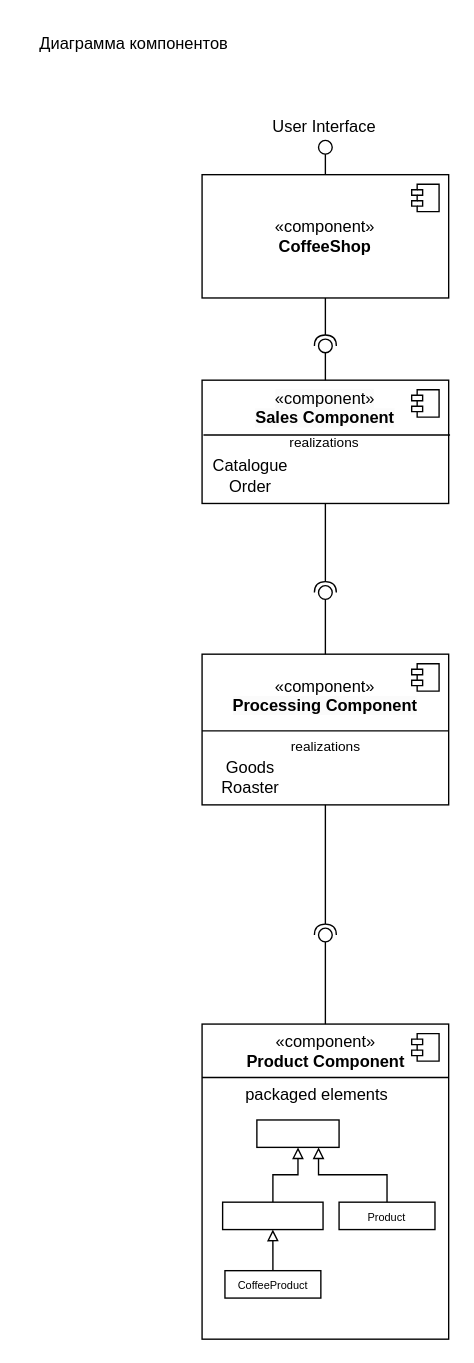
Some shapes in this 474 by 1363 pixel diagram are drawn without their labels. Here are the shapes that lost their labels. From the top down, the centre of each, then its label:
point 297,1133: AProduct
point 272,1215: PerishableProduct
